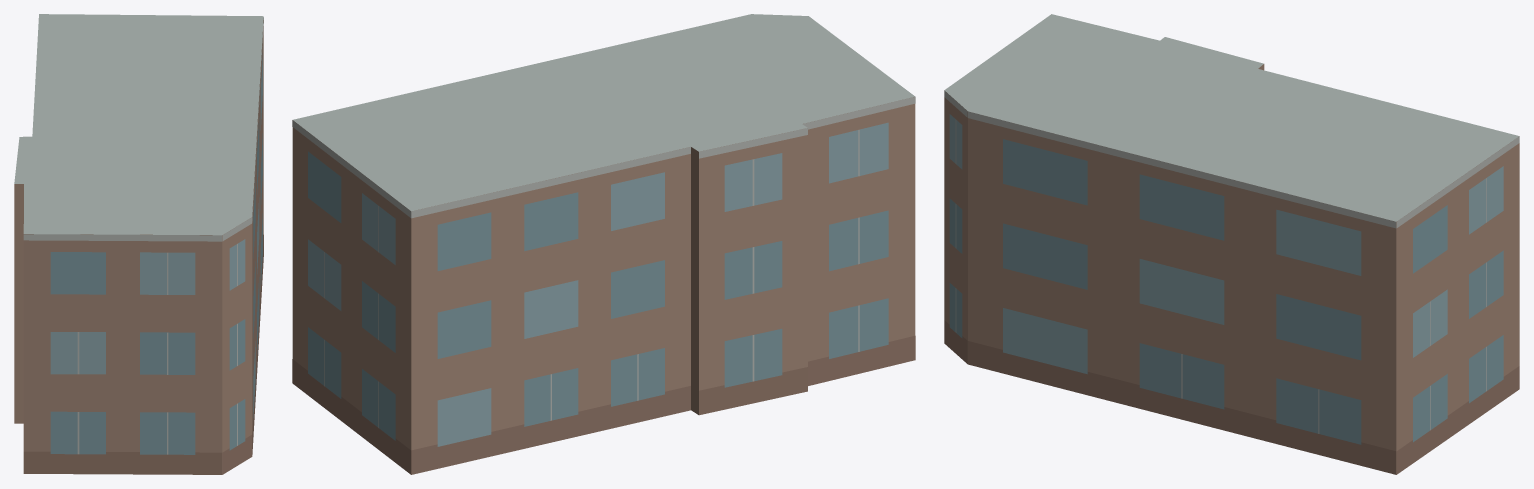
Rendered from survey-upis-32988225.glb.
3 views of the same model, side by side, from view 1: azimuth 30°, elevation 25°; view 2: azimuth 150°, elevation 25°; view 3: azimuth 270°, elevation 25° (orthographic). The views are drawn at different scales.
Parts seen in each view (by area): view 1: survey-upis-32988225.tmp; view 2: survey-upis-32988225.tmp; view 3: survey-upis-32988225.tmp.
Part boxes in pixels (x1=…): survey-upis-32988225.tmp: x1=14, y1=14, x2=263, y2=474; survey-upis-32988225.tmp: x1=292, y1=14, x2=915, y2=474; survey-upis-32988225.tmp: x1=944, y1=14, x2=1519, y2=474.
Bounding box in the file's own units: 16.12 × 9.15 × 18.86.
